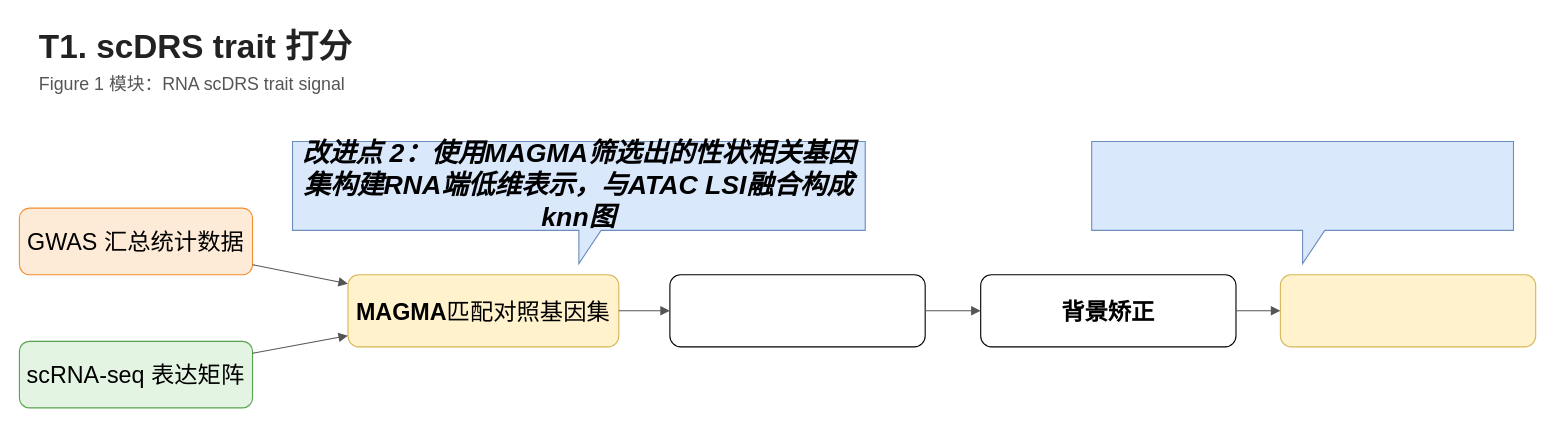
Some shapes in this 1555 by 427 pixel diagram are drawn without their labels. Each missing label, with the centre of its shape:
原始细胞打分: (x=797, y=310)
改进点 1 ： scDRS 替代 g- chromVAR ，提升种子细胞准确性: (x=1302, y=202)
细胞相似性分数 Norm_score: (x=1407, y=310)
